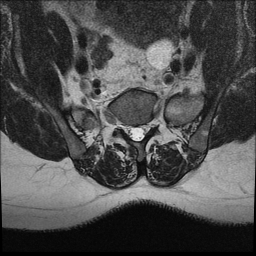CCS_stenosis: (133, 117, 140, 149)
LFS_normal: (147, 111, 155, 137)
LLS_normal: (140, 116, 147, 145)
RFS_normal: (118, 111, 125, 141)
RLS_normal: (125, 116, 133, 145)
